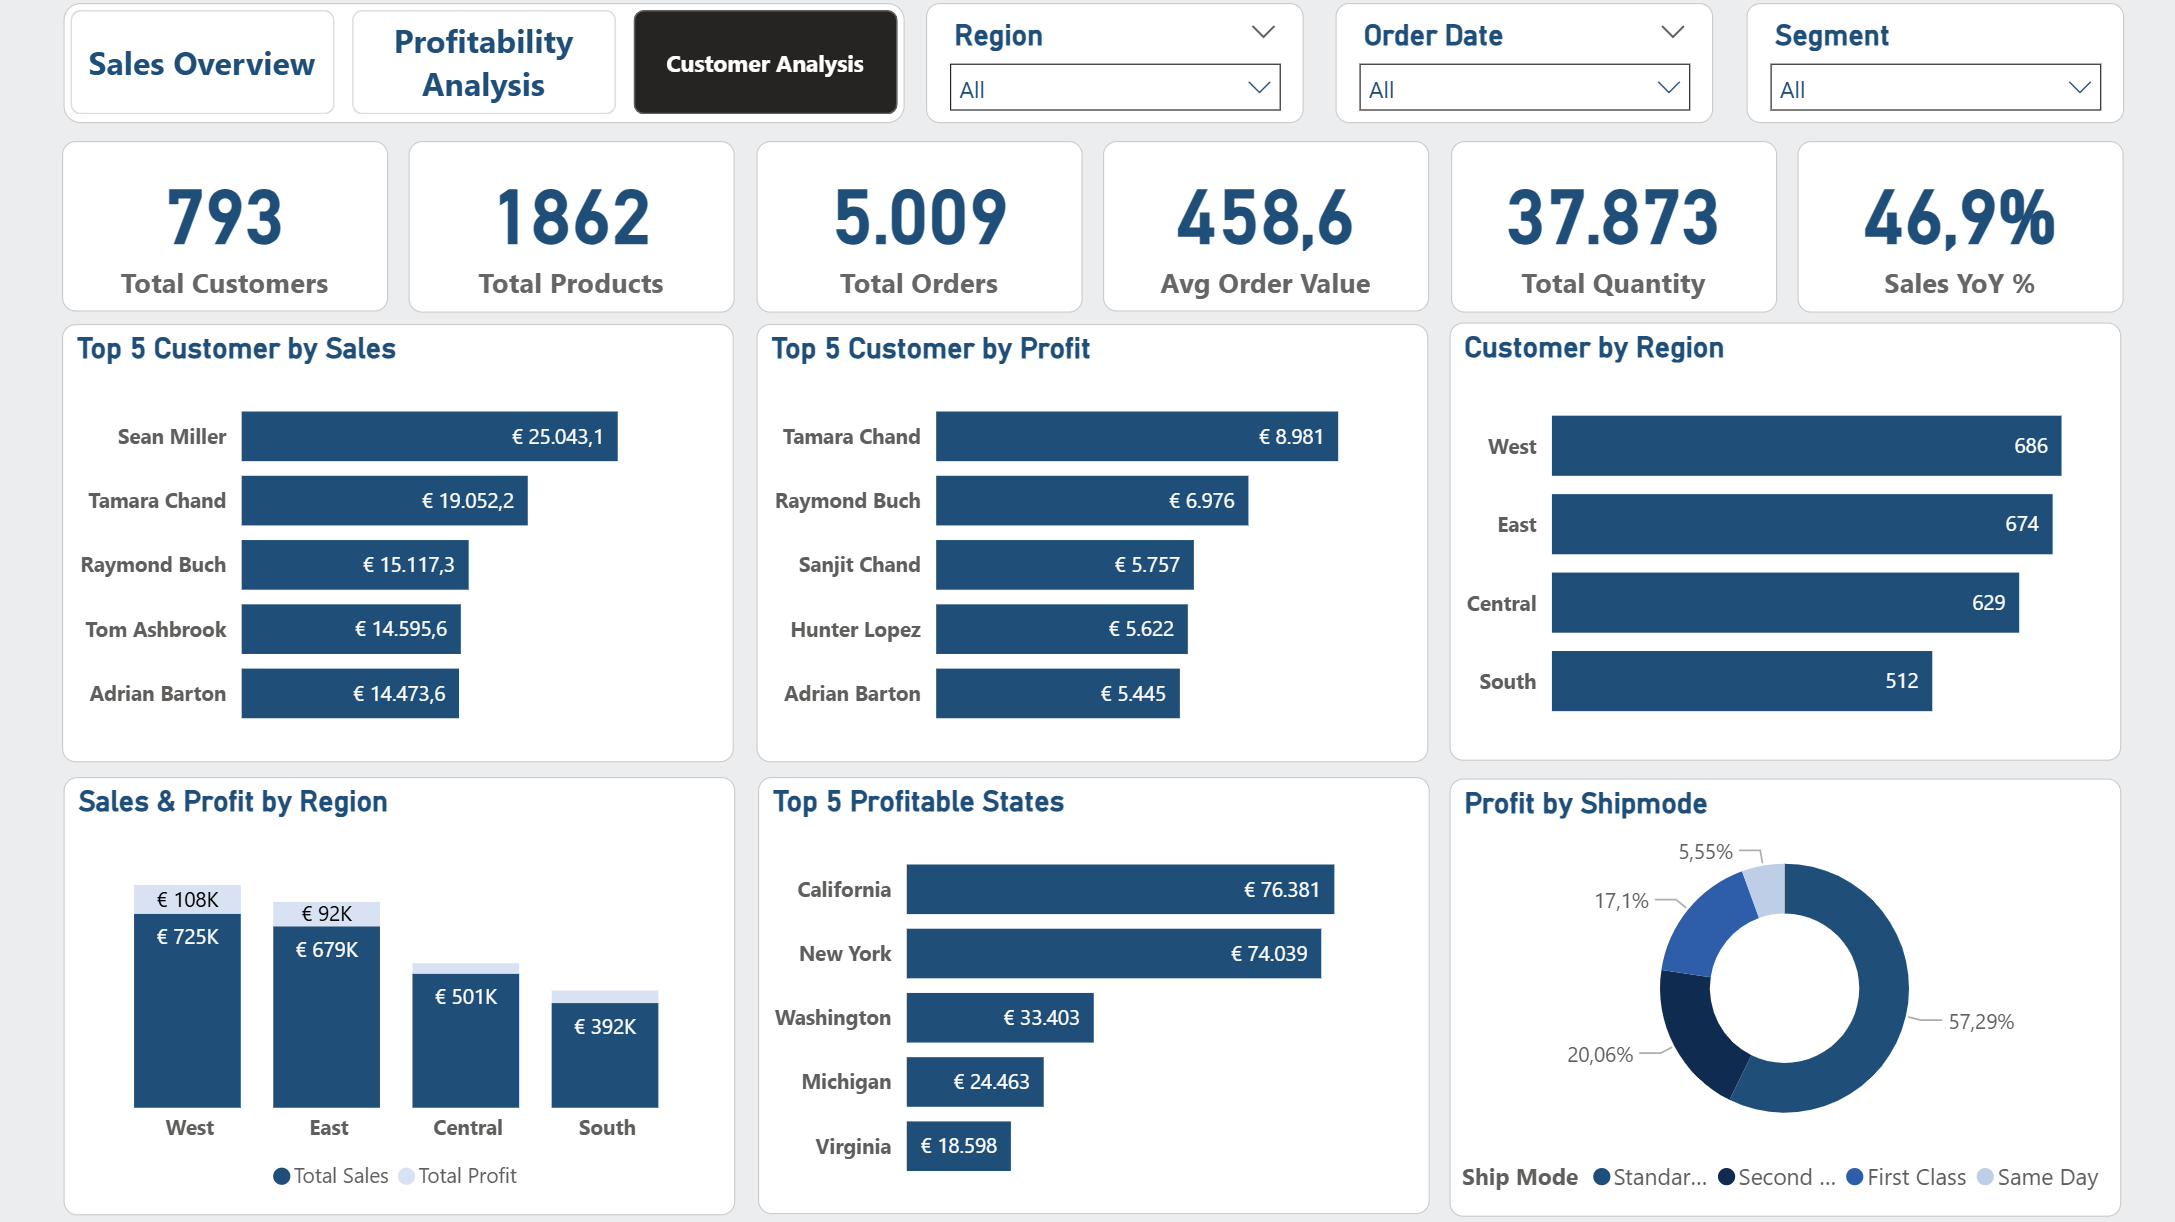

The dashboard page shown, as its layout file describes it:
{"tool":"powerbi","page":{"name":"Customer  Analysis","canvas":[1280,720],"ordinal":2},"visuals":[{"type":"slicer","fields":{"Values":["Fact_Sales.Order Date"]},"box":[782.2,5.1,220.3,70],"z":0},{"type":"slicer","fields":{"Values":["Dim_Customer.Segment"]},"box":[1021.1,5.1,220.3,70],"z":1000},{"type":"slicer","fields":{"Values":["Dim_Geography.Region"]},"box":[543.2,5.1,220.3,70],"z":2000},{"type":"card","fields":{"Values":["_Measures.Average Order Value"]},"box":[647,85.4,190,99.6],"z":3000},{"type":"card","fields":{"Values":["_Measures.Total Products"]},"box":[242.2,85.3,190.1,99.9],"z":4000},{"type":"card","fields":{"Values":["_Measures.Total Orders"]},"box":[444.5,85.3,190.1,99.9],"z":5000},{"type":"card","fields":{"Values":["_Measures.YoY Growth %"]},"box":[1051.4,85.3,190.1,99.9],"z":6000},{"type":"card","fields":{"Values":["_Measures.Total Customers"]},"box":[40.6,85.4,190,99.6],"z":7000},{"type":"card","fields":{"Values":["_Measures.Total Quantity"]},"box":[849.1,85.3,190.1,99.9],"z":8000},{"type":"columnChart","title":"Sales & Profit by Region","fields":{"Category":["Dim_Geography.Region"],"Y":["_Measures.Total Sales","_Measures.Total Profit"]},"box":[40.7,456.5,391,255],"z":9000},{"type":"donutChart","title":" Profit by Shipmode","fields":{"Category":["Dim_ShipMode.Ship Mode"],"Y":["_Measures.Total Profit"]},"box":[848.8,457.2,391,255],"z":10000},{"type":"clusteredBarChart","title":"Top 5 Customer by Sales","fields":{"Y":["_Measures.Total Sales"],"Category":["Dim_Customer.Customer Name"]},"box":[40.6,192,391.5,255],"z":11000},{"type":"clusteredBarChart","title":"Top 5 Profitable States","fields":{"Category":["Dim_Geography.State"],"Y":["_Measures.Total Profit"]},"box":[445.5,456.5,391.6,254.8],"z":12000},{"type":"clusteredBarChart","title":"Top 5 Customer by Profit","fields":{"Y":["_Measures.Total Profit"],"Category":["Dim_Customer.Customer Name"]},"box":[444.6,192,391.6,255],"z":13000},{"type":"pageNavigator","box":[41.4,4.8,490,69.8],"z":14000},{"type":"clusteredBarChart","title":" Customer by Region ","fields":{"Category":["Dim_Geography.Region"],"Y":["_Measures.Total Customers"]},"box":[848.1,191.3,391.6,255.5],"z":15000}]}

Visuals, with their boxes in screenshot pixels (x1, y1, x2, y2), scaled from the page's 1280x720 canvas onto the 2175x1222 screenshot:
slicer - Fact_Sales.Order Date: {"left": 1329, "top": 9, "right": 1703, "bottom": 127}
slicer - Dim_Customer.Segment: {"left": 1735, "top": 9, "right": 2109, "bottom": 127}
slicer - Dim_Geography.Region: {"left": 923, "top": 9, "right": 1297, "bottom": 127}
card - _Measures.Average Order Value: {"left": 1099, "top": 145, "right": 1422, "bottom": 314}
card - _Measures.Total Products: {"left": 412, "top": 145, "right": 735, "bottom": 314}
card - _Measures.Total Orders: {"left": 755, "top": 145, "right": 1078, "bottom": 314}
card - _Measures.YoY Growth %: {"left": 1787, "top": 145, "right": 2110, "bottom": 314}
card - _Measures.Total Customers: {"left": 69, "top": 145, "right": 392, "bottom": 314}
card - _Measures.Total Quantity: {"left": 1443, "top": 145, "right": 1766, "bottom": 314}
"Sales & Profit by Region" columnChart: {"left": 69, "top": 775, "right": 734, "bottom": 1208}
" Profit by Shipmode" donutChart: {"left": 1442, "top": 776, "right": 2107, "bottom": 1209}
"Top 5 Customer by Sales" clusteredBarChart: {"left": 69, "top": 326, "right": 734, "bottom": 759}
"Top 5 Profitable States" clusteredBarChart: {"left": 757, "top": 775, "right": 1422, "bottom": 1207}
"Top 5 Customer by Profit" clusteredBarChart: {"left": 755, "top": 326, "right": 1421, "bottom": 759}
pageNavigator: {"left": 70, "top": 8, "right": 903, "bottom": 127}
" Customer by Region " clusteredBarChart: {"left": 1441, "top": 325, "right": 2107, "bottom": 758}
